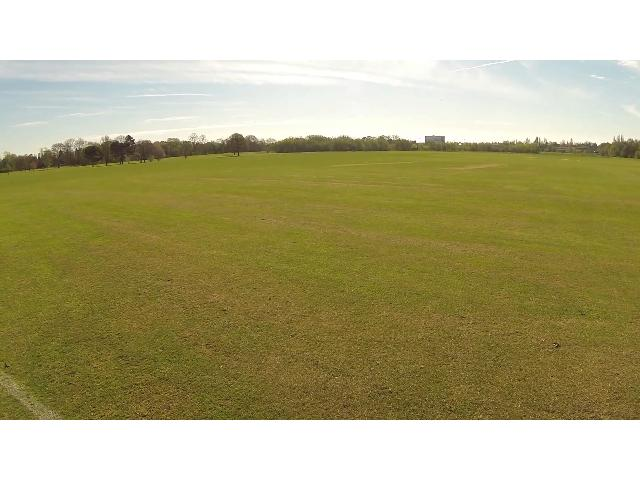Anti-Drone: (430, 96, 448, 108)
